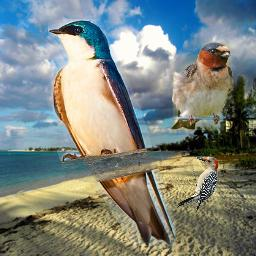Swallow: (48, 19, 176, 246), (170, 42, 235, 130)
Woodpecker: (174, 154, 224, 210)
